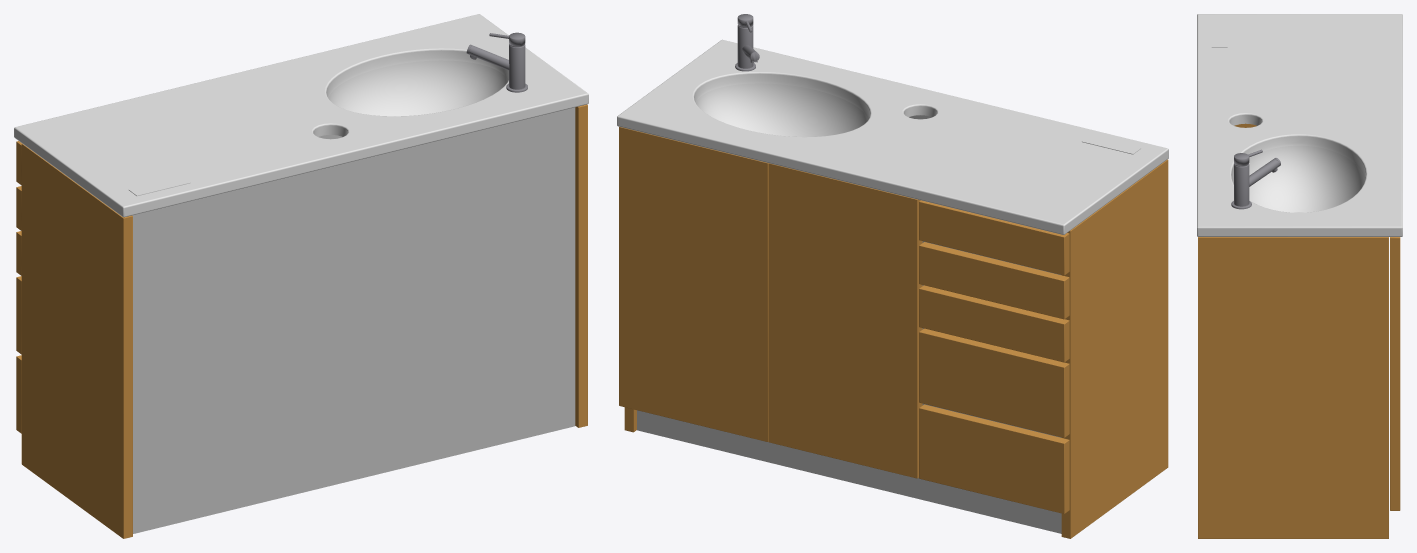
Rendered from 歯医者キャビネット.glb.
3 views of the same model, side by side, from view 1: azimuth 30°, elevation 25°; view 2: azimuth 150°, elevation 25°; view 3: azimuth 270°, elevation 25° (orthographic). The views are drawn at different scales.
Parts seen in each view (by area): view 1: オブジェクト088, Box8223993, Box8223995, Sphere003, stitch_result_stitch_all090_2; view 2: Box8223995, Box8223993, オブジェクト088, Sphere003, stitch_result_stitch_all090_2; view 3: Box8223995, Box8223993, Sphere003, stitch_result_stitch_all090_2, Box8223994.
Part boxes in pixels (bbox=[...]): オブジェクト088: bbox=[132, 107, 575, 533]; Box8223993: bbox=[14, 14, 588, 217]; Box8223995: bbox=[16, 104, 587, 538]; Sphere003: bbox=[328, 60, 507, 116]; stitch_result_stitch_all090_2: bbox=[466, 32, 527, 92]; Box8223995: bbox=[619, 127, 1168, 538]; Box8223993: bbox=[617, 39, 1168, 234]; オブジェクト088: bbox=[637, 115, 1061, 533]; Sphere003: bbox=[696, 83, 868, 136]; stitch_result_stitch_all090_2: bbox=[735, 14, 759, 71]; Box8223995: bbox=[1198, 123, 1400, 538]; Box8223993: bbox=[1197, 14, 1402, 236]; Sphere003: bbox=[1232, 145, 1364, 212]; stitch_result_stitch_all090_2: bbox=[1231, 149, 1280, 209]; Box8223994: bbox=[1211, 23, 1227, 47].
Bounding box in the file's own units: 1.35 × 1.06 × 0.55.
